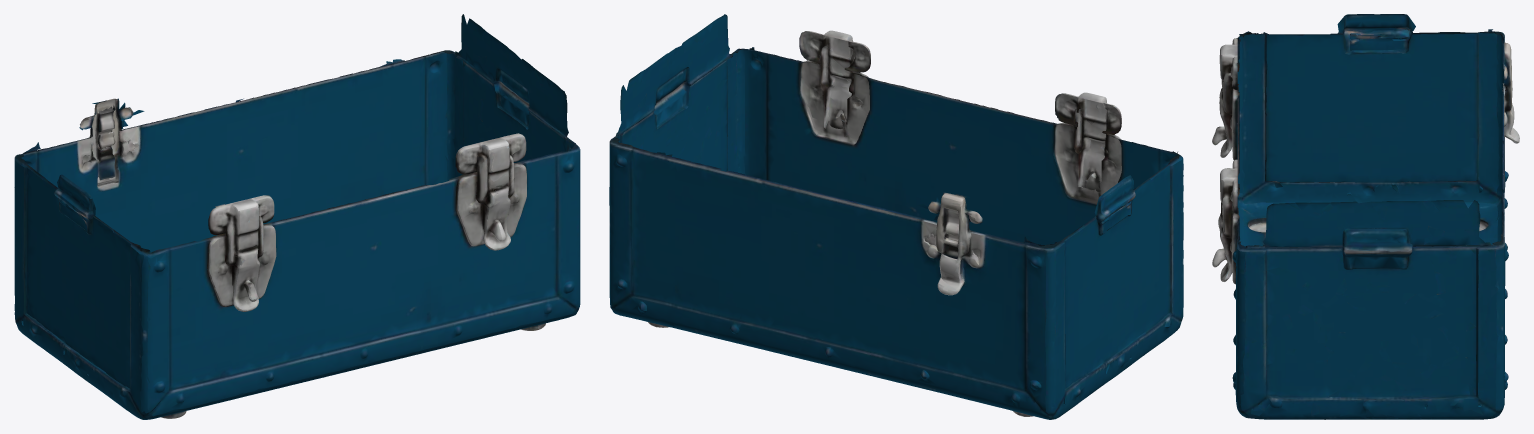
The picture shows the model from 3 angles, left to right: view 1: azimuth 30°, elevation 25°; view 2: azimuth 150°, elevation 25°; view 3: azimuth 270°, elevation 25°; orthographic projection.
Visible parts, largest first — view 1: world; view 2: world; view 3: world.
Part boxes in pixels (<box>): world: <box>14,14,580,419</box>; world: <box>609,14,1183,419</box>; world: <box>1212,14,1519,419</box>.
Bounding box in the file's own units: 0.45 × 0.2173 × 0.2655.
1 material, 1 textured.
